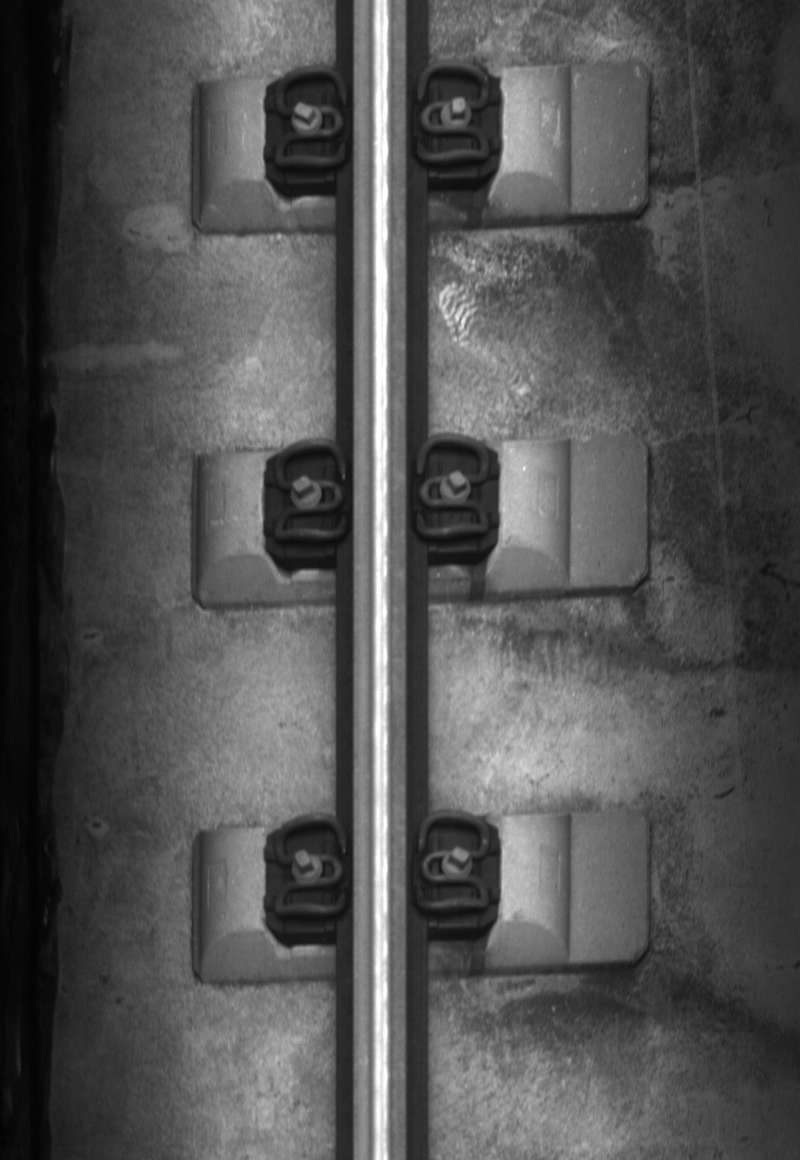l_faster: (266, 435, 353, 549), (268, 811, 352, 927), (269, 62, 352, 174)
r_faster: (411, 432, 494, 543), (411, 58, 493, 169), (412, 808, 494, 917)
